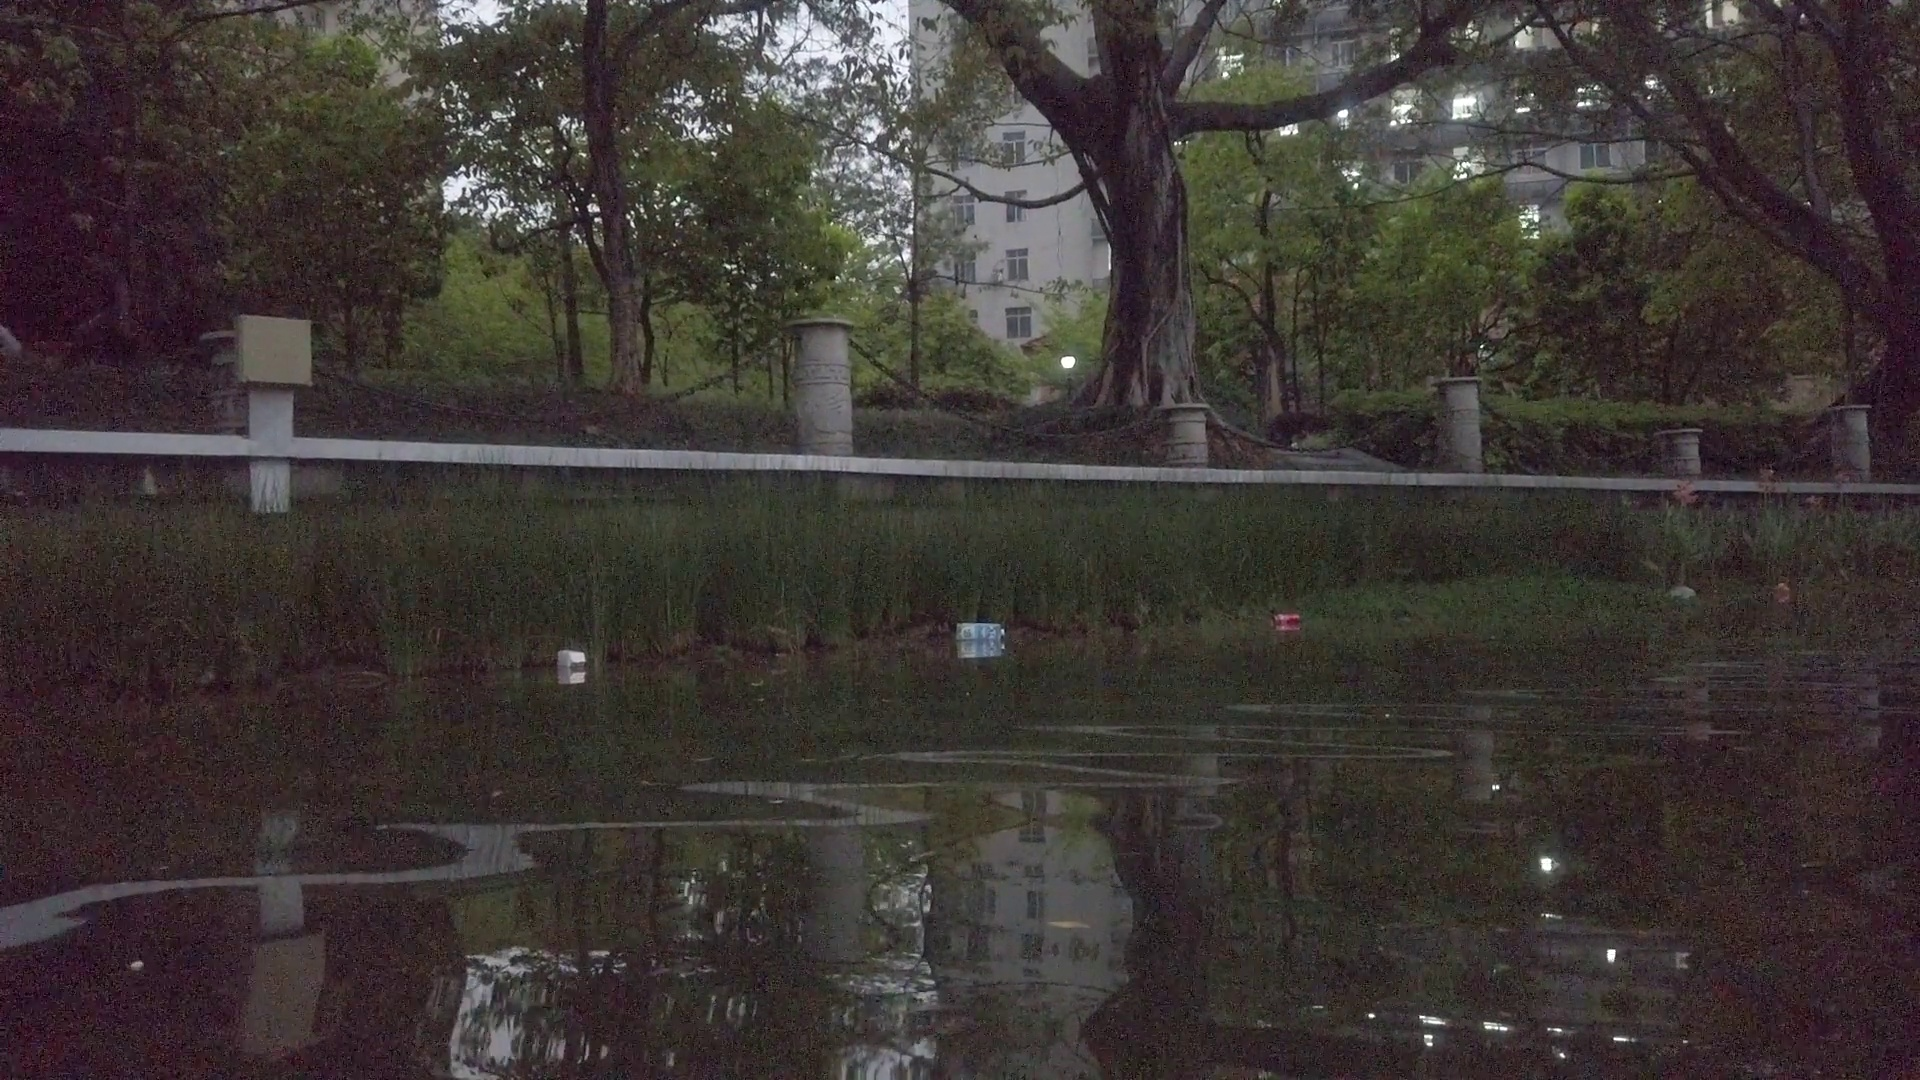bottle: (1664, 576, 1698, 616), (1768, 576, 1791, 607), (1276, 611, 1302, 628)
carton: (956, 621, 1006, 644), (556, 650, 585, 673)
